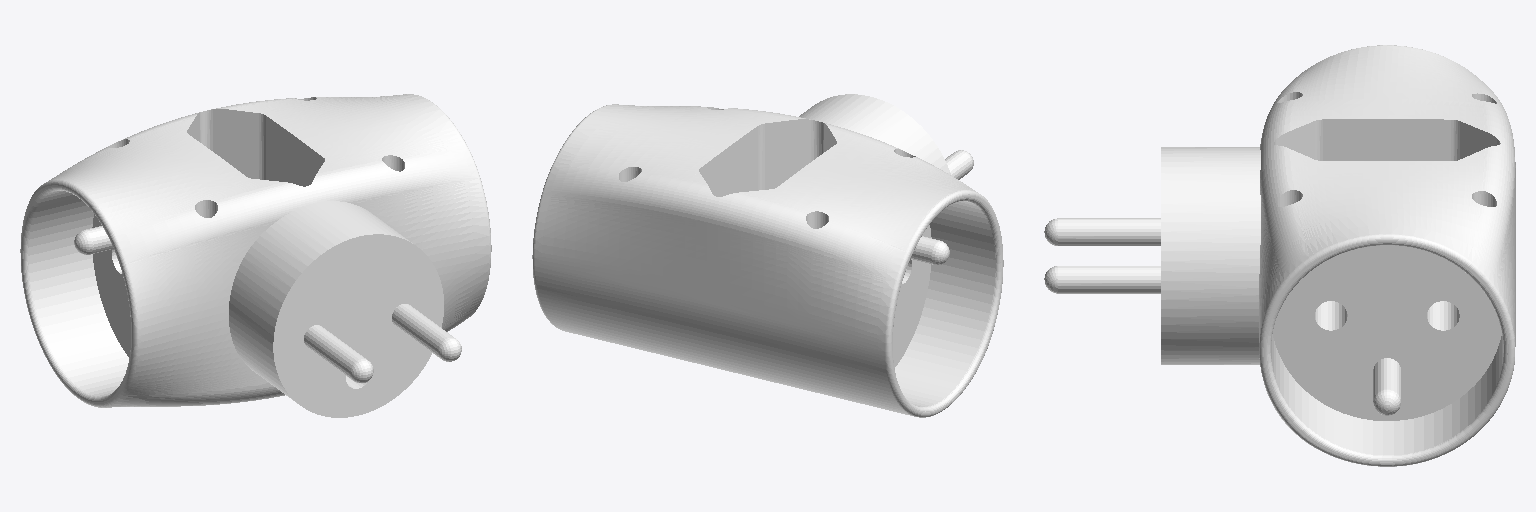
The robot description file, URDF, robot "obj_000021":
<?xml version="1.0" ?>
<robot name="obj_000021">
   <link name="base_link">
      <visual>
         <geometry>
            <mesh filename="package://urdf/tless/obj_21.obj" scale="1.0 1.0 1.0"/>
         </geometry>
         <material name="mat_part0">
            <color rgba="1.0 1.0 1.0 1.0"/>
         </material>
      </visual>
      <collision>
         <geometry>
            <mesh filename="package://urdf/tless/obj_21.obj" scale="1.0 1.0 1.0"/>
         </geometry>
      </collision>
      <inertial>
         <origin rpy="0 0 0" xyz="0.0 0.0 0.0"/>
         <mass value="0.1"/>
         <inertia ixx="1" ixy="0" ixz="0" iyy="1" iyz="0" izz="1"/>
      </inertial>
   </link>
</robot>

--- Render facts (derived) ---
Views: 3 orthographic renders of the robot side by side, from view 1: azimuth 30°, elevation 25°; view 2: azimuth 150°, elevation 25°; view 3: azimuth 270°, elevation 25°.
Model obj_000021 with 1 links and 0 joints (none), rooted at base_link, posed all joints at 0.
Links seen in each view (by area): view 1: base_link; view 2: base_link; view 3: base_link.
Boxes of the visible links, <box> form: base_link: <box>20,94,491,417</box>; base_link: <box>532,94,1003,417</box>; base_link: <box>1044,45,1515,466</box>.
Bounding box of the posed robot: 76.9 × 78.98 × 43 m (x, y, z).
Meshes: 1 distinct files referenced, 1 mesh visuals loaded (1 OBJ).
